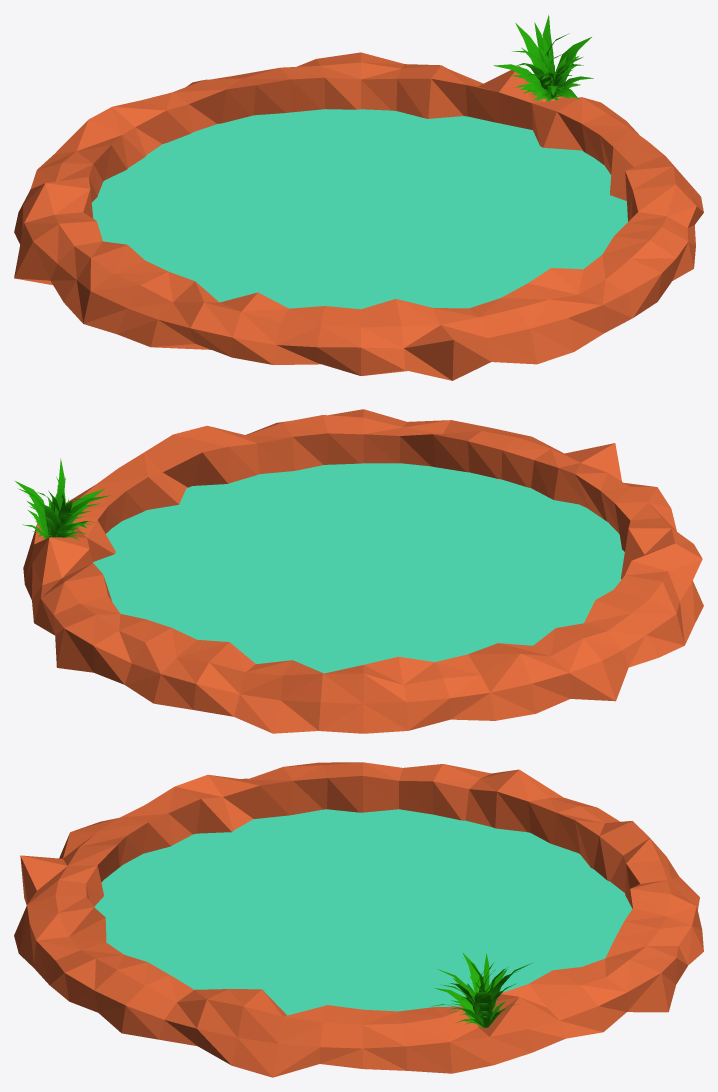
File: watering hole.fbx
3 renders of one model, top to bottom at view 1: azimuth 30°, elevation 25°; view 2: azimuth 150°, elevation 25°; view 3: azimuth 270°, elevation 25°, orthographic.
Parts seen in each view (by area): view 1: Torus, Cylinder, Grass.001, Grass.002; view 2: Torus, Cylinder, Grass.001; view 3: Torus, Cylinder, Grass.001, Grass.002.
Boxes of the visible parts, x1,y1,x2,y2 form: Torus: (14, 52, 703, 380); Cylinder: (91, 109, 627, 309); Grass.001: (493, 15, 591, 98); Grass.002: (520, 34, 593, 101); Torus: (23, 409, 703, 733); Cylinder: (93, 463, 624, 673); Grass.001: (14, 458, 110, 540); Torus: (14, 762, 703, 1077); Cylinder: (94, 809, 632, 1015); Grass.001: (438, 952, 531, 1027); Grass.002: (430, 963, 498, 1027).
Size of the model in its own units: 298 by 52.21 by 302.
